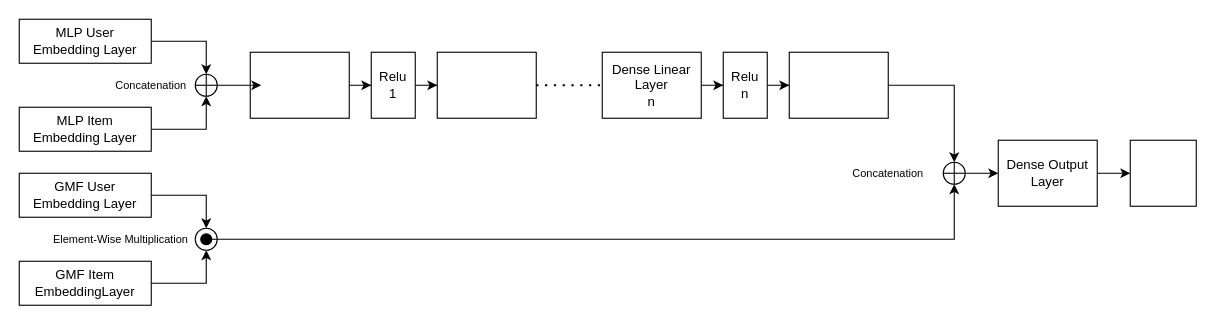
Some shapes in this 1216 by 325 pixel diagram are drawn without their labels. The centre of each missing label's shape, as x and y in pixels:
"1D Batch Normalization 1" belongs at point 486,84.
"1D Batch Normalization n" belongs at point 838,84.
"Dense Linear Layer 1" belongs at point 299,84.
"Sigmoid" belongs at point 1162,172.
